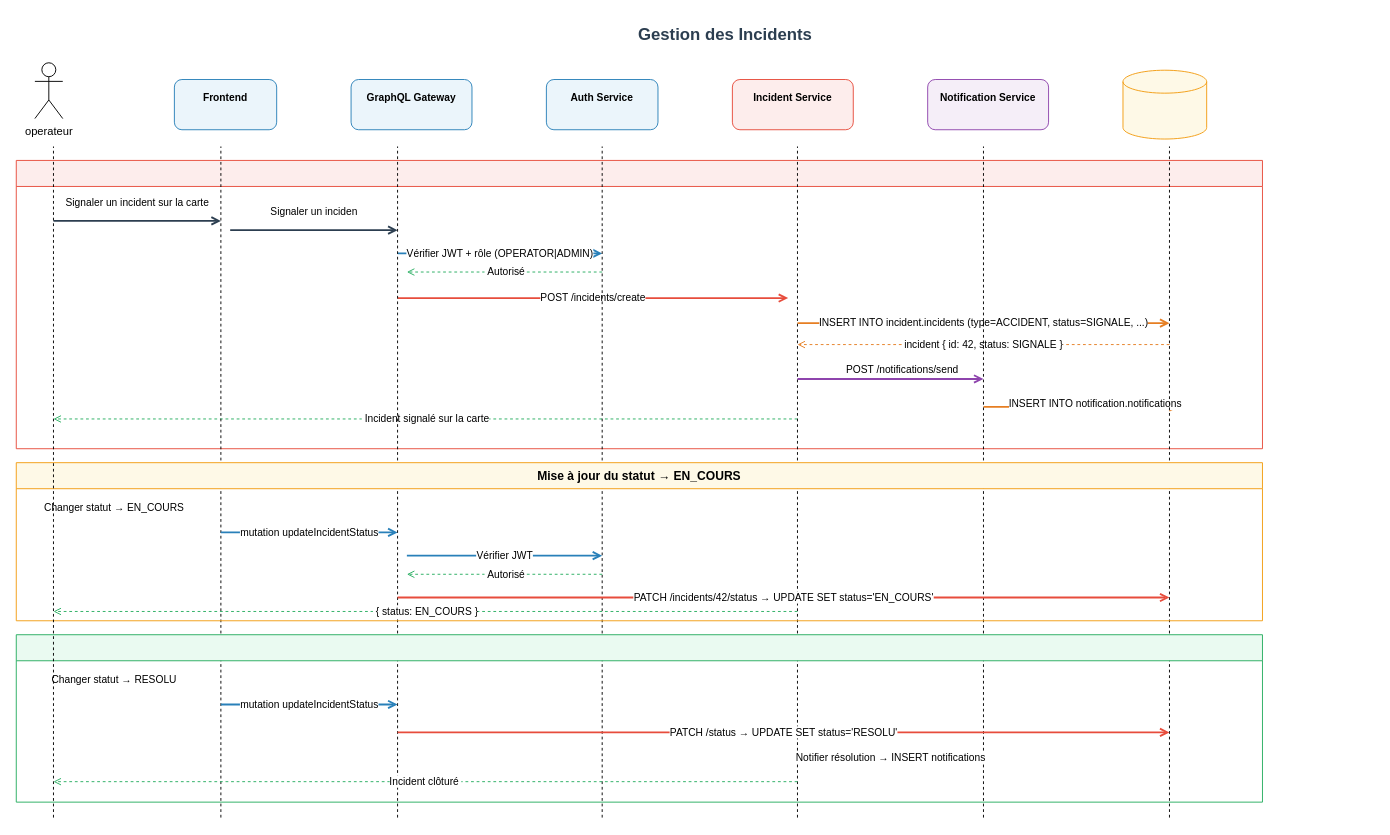
Some shapes in this 1390 by 835 pixel diagram are drawn without their labels. The shapes that lost their labels are listed below. From the top down, each one's box as (x1, y1, x2, y2) in pixels, then its label:
(1122, 69, 1207, 139): PostgreSQL
(15, 159, 1262, 449): Déclarer un Incident
(15, 634, 1262, 802): Résolution de l'incident → RESOLU
